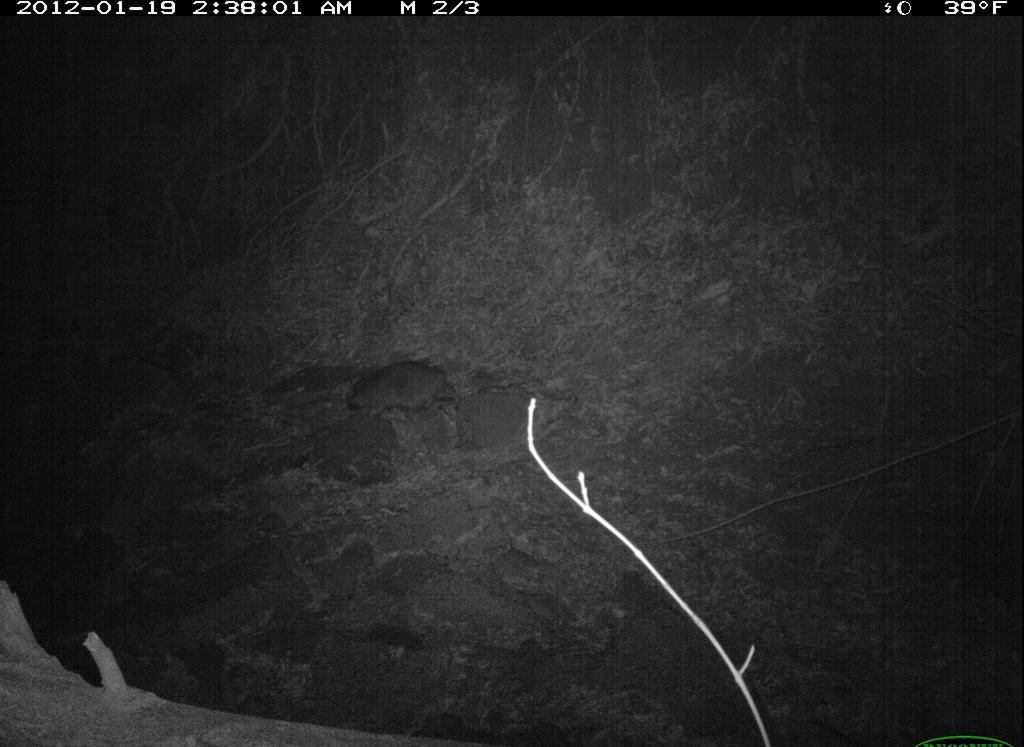raccoon: (331, 352, 468, 425)
